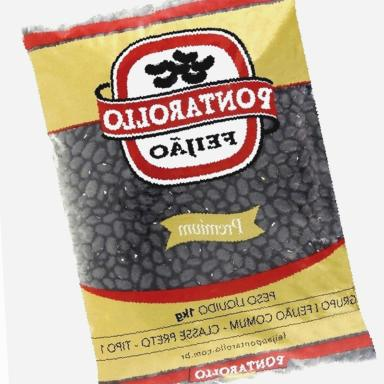beans package: (24, 0, 374, 383)
